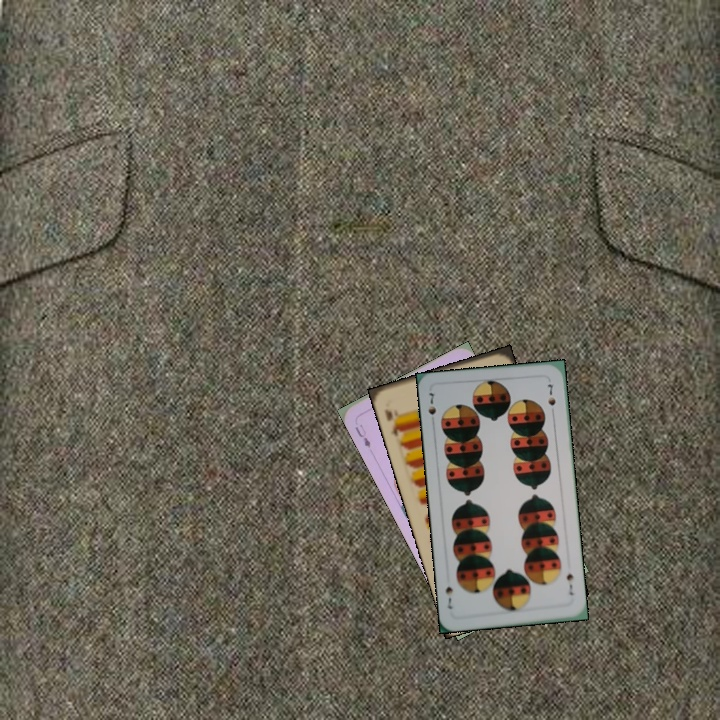E10: (380, 405, 405, 439)
EU: (351, 420, 373, 451)
S7: (424, 389, 439, 428), (562, 569, 576, 598)
